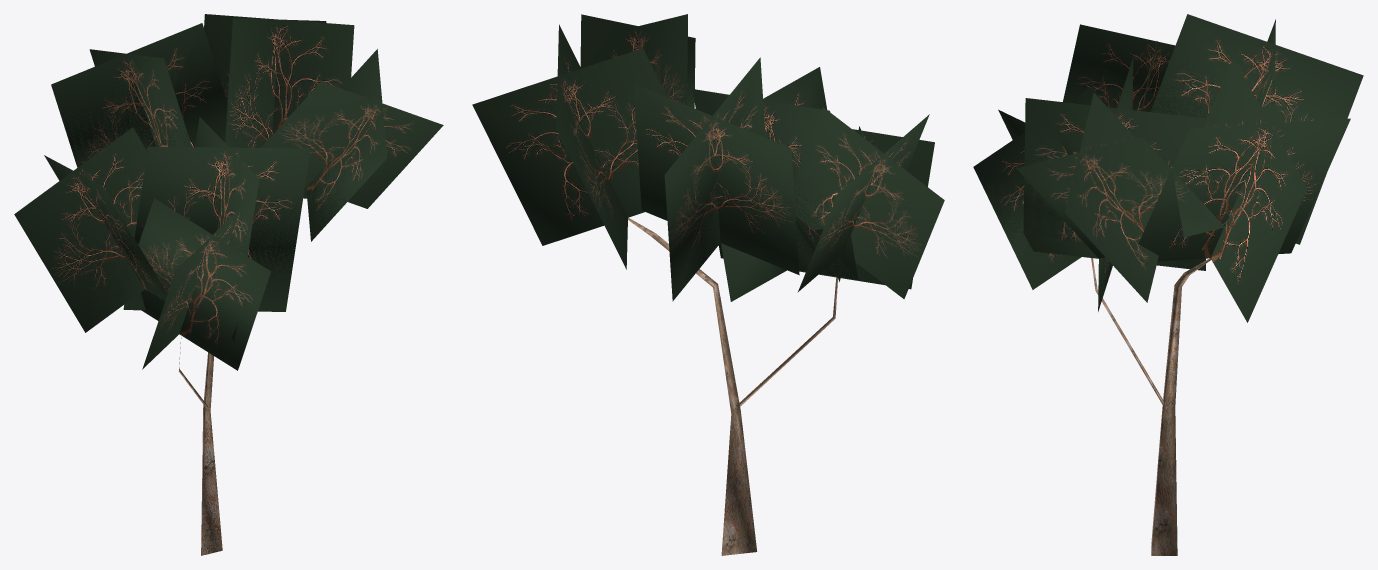
Rendered from decd_ginkgotreebranches_l2.fbx.
3 views of the same model, side by side, from view 1: azimuth 30°, elevation 25°; view 2: azimuth 150°, elevation 25°; view 3: azimuth 270°, elevation 25° (orthographic). The views are drawn at different scales.
Visible parts, largest first — view 1: mesh_node; view 2: mesh_node; view 3: mesh_node.
Part boxes in pixels (bbox=[...]): mesh_node: bbox=[14, 14, 443, 555]; mesh_node: bbox=[472, 14, 944, 555]; mesh_node: bbox=[973, 14, 1363, 555].
Bounding box in the file's own units: 3 × 3.66 × 2.48.
Materials: 2 (2 with a texture image).
